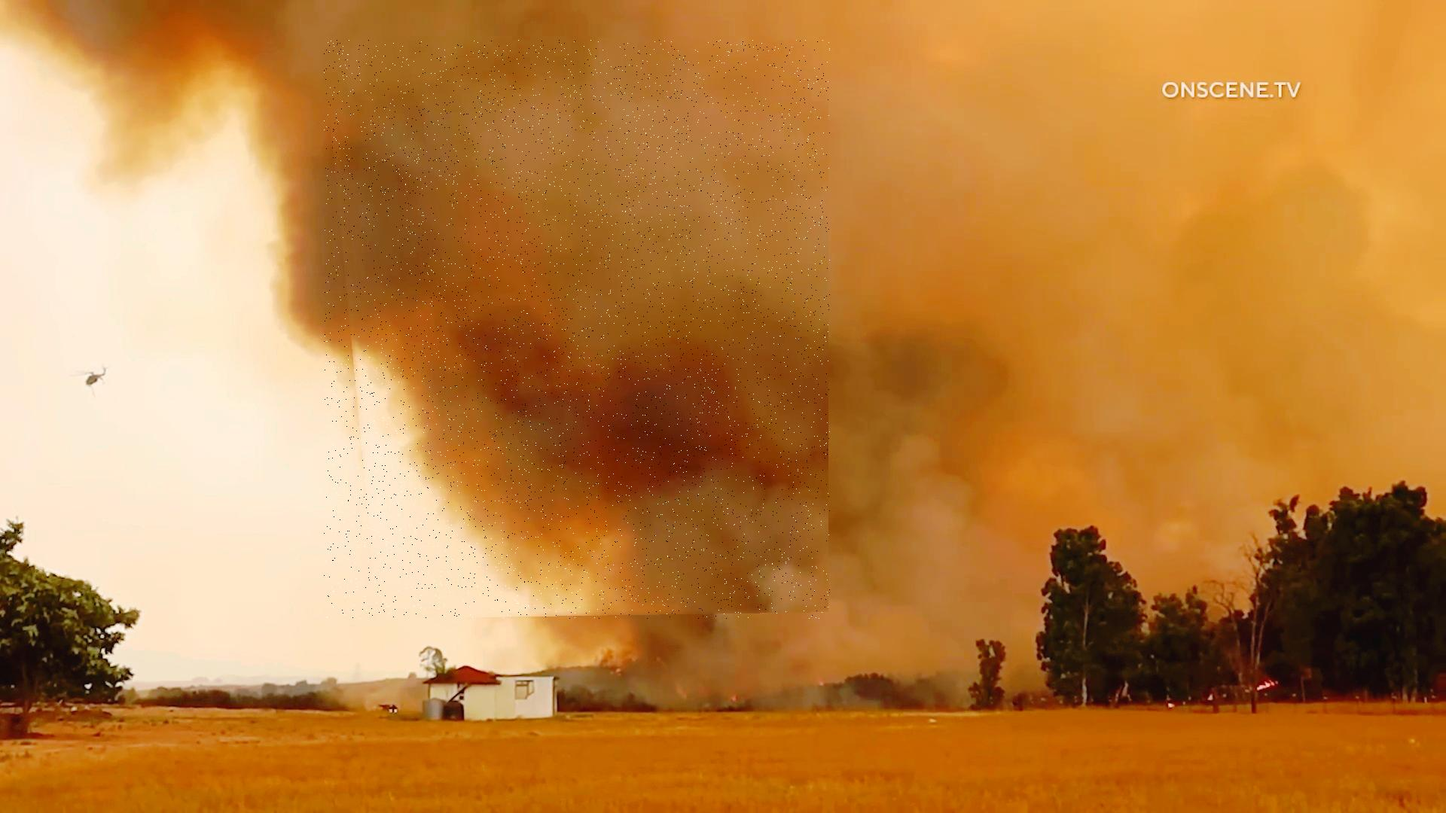smoke: (324, 40, 831, 619)
